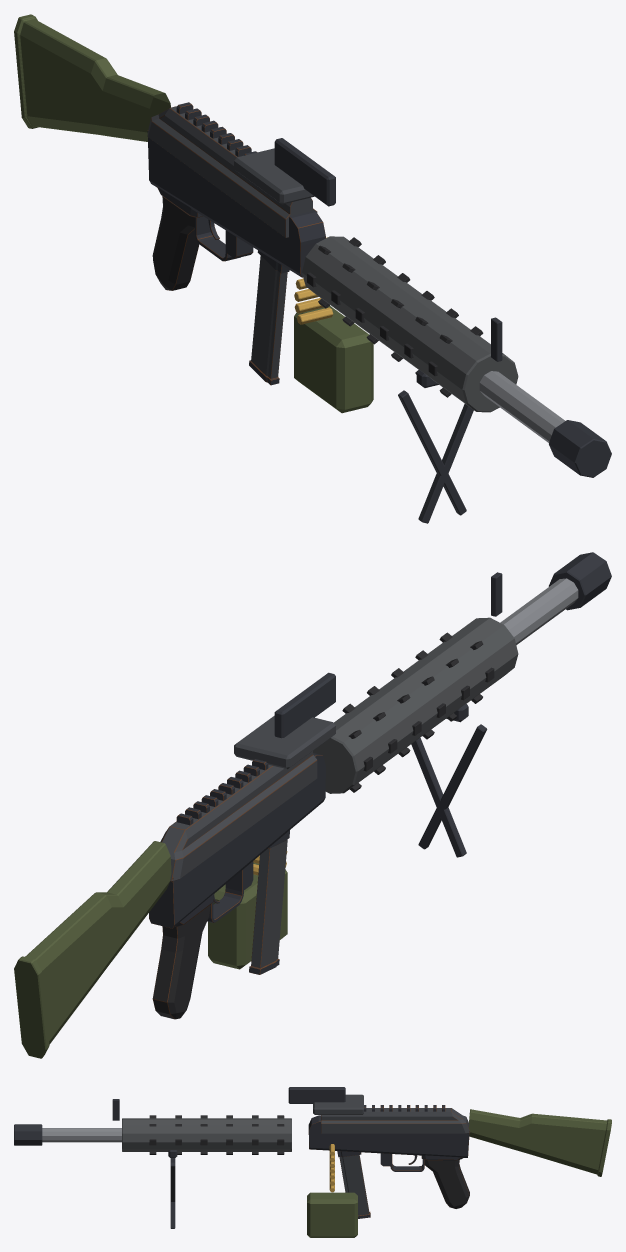
Rendered from machine_gun.glb.
3 renders of one model, top to bottom at view 1: azimuth 30°, elevation 25°; view 2: azimuth 150°, elevation 25°; view 3: azimuth 270°, elevation 25°, orthographic. The views are drawn at different scales.
Parts seen in each view (by area): view 1: machine_gun; view 2: machine_gun; view 3: machine_gun.
Part boxes in pixels (x1,y1,x2,y2): machine_gun: [14, 14, 611, 523]; machine_gun: [14, 552, 611, 1058]; machine_gun: [14, 1087, 611, 1237].
Size of the model in its own units: 0.0829 by 0.1969 by 0.78.
